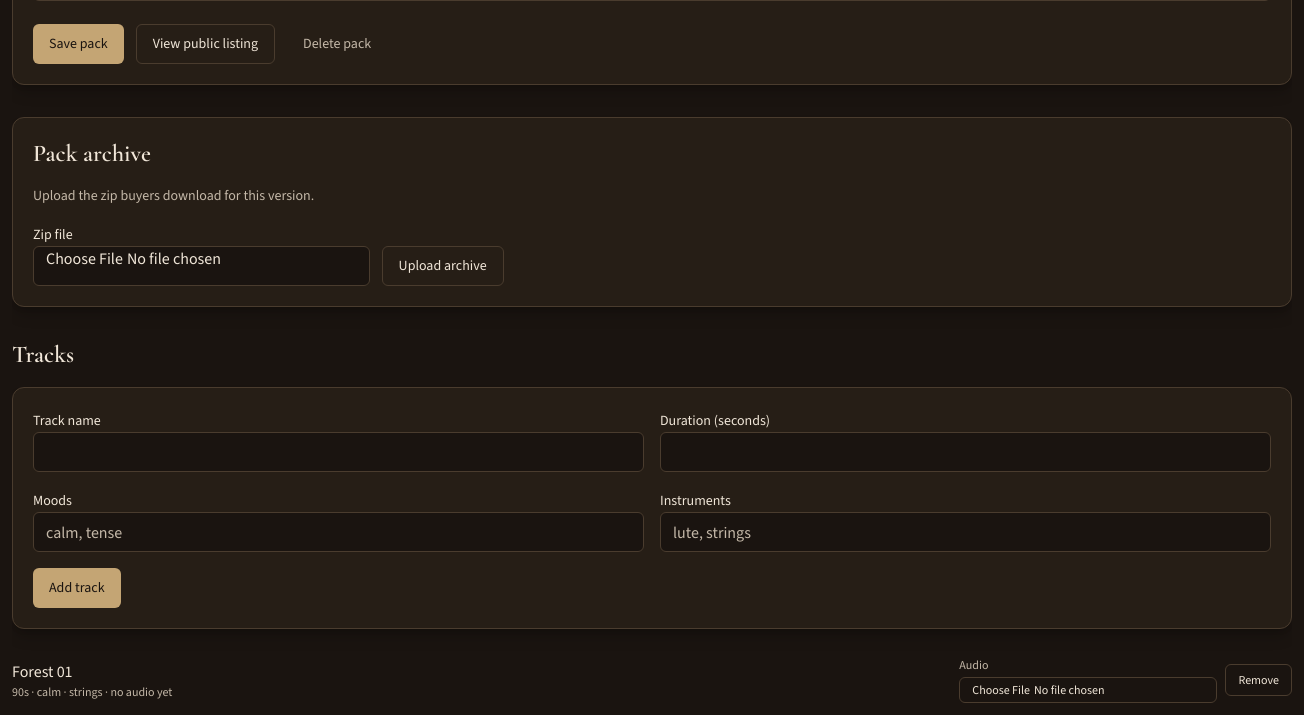
AdminPackPage › adds a track to the current version
(page scrolled)
In the field labelled "Track name": (338, 452) left=33, top=432, right=644, bottom=472, type "Forest 02"
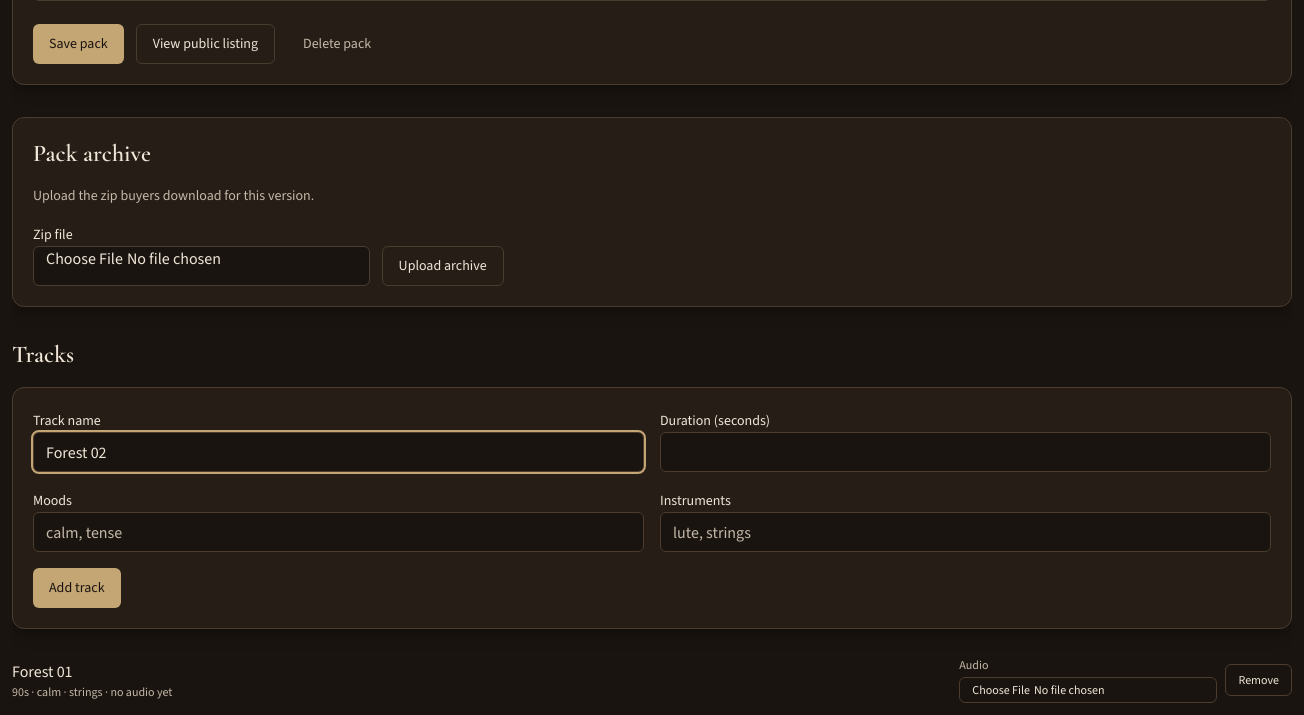
In the number field labelled "Duration (seconds)": (966, 452) left=660, top=432, right=1271, bottom=472, type "90"
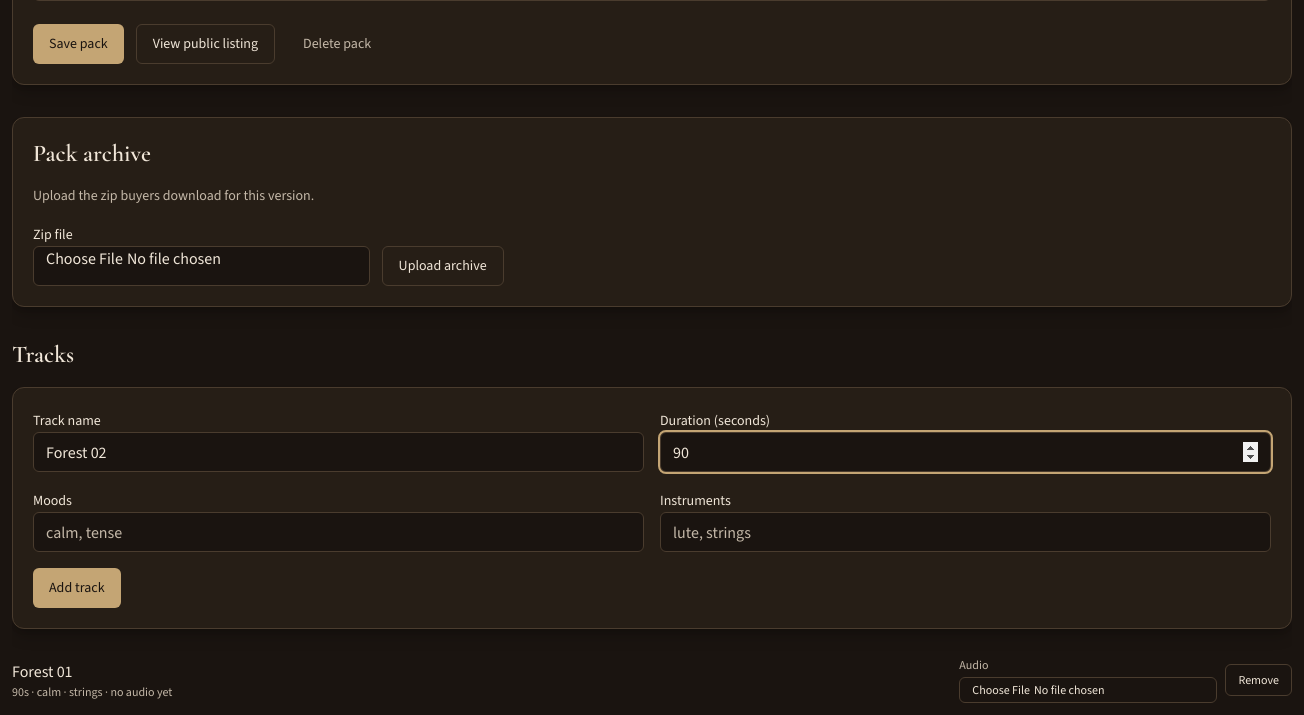
In the field labelled "Moods": (338, 532) left=33, top=512, right=644, bottom=552, type "calm"
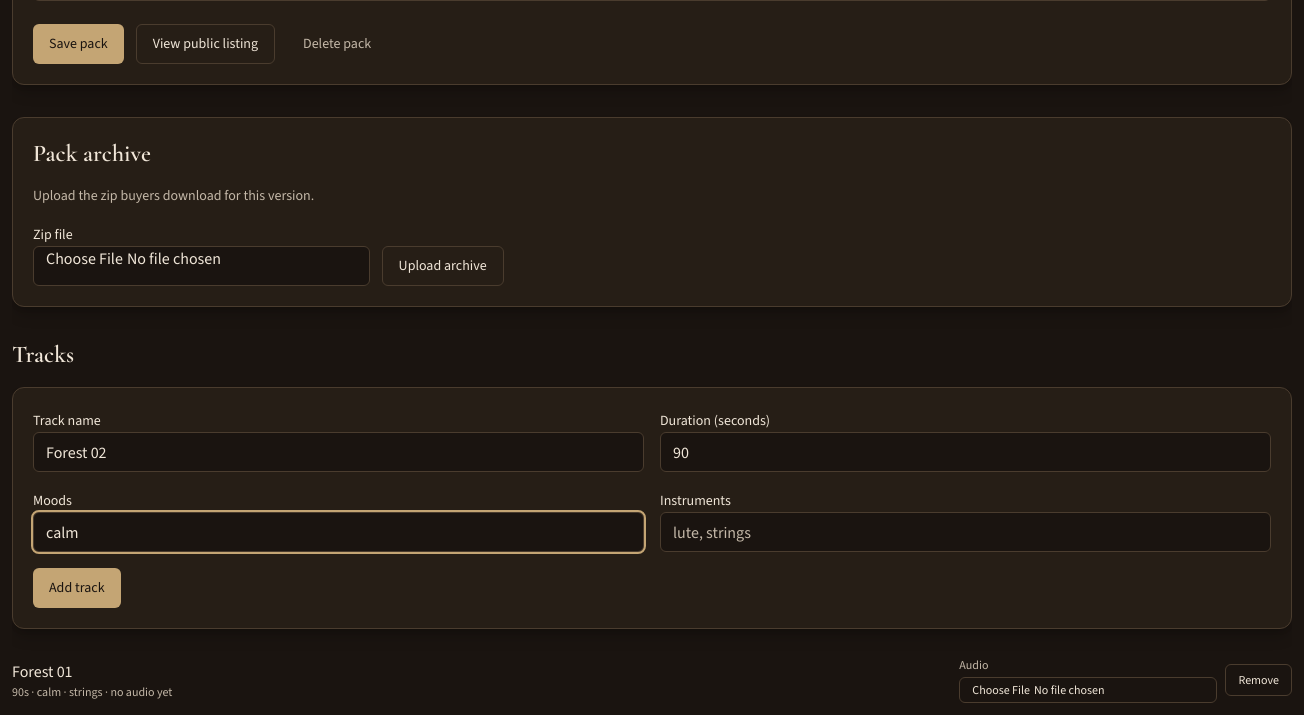
Click the button "Add track": (77, 588) left=33, top=568, right=121, bottom=608
(page scrolled)
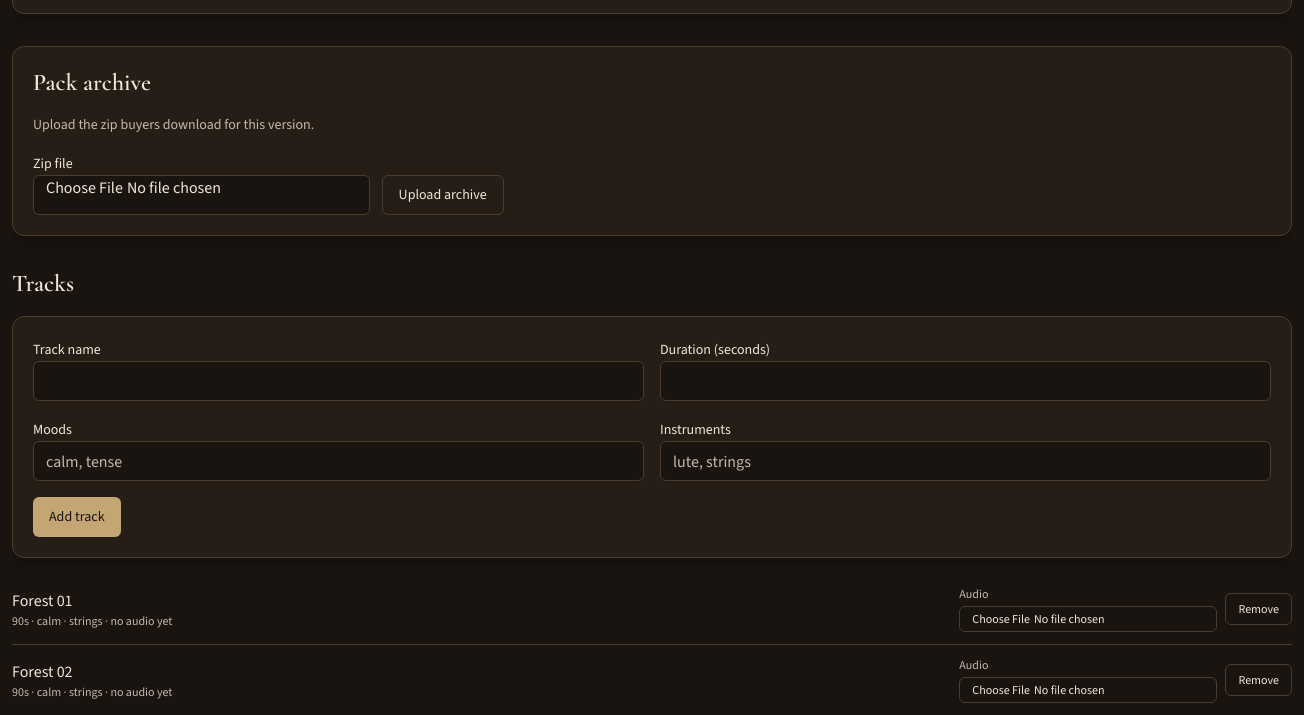
Result: the text "Forest 02" is shown at left=12, top=661, right=73, bottom=682
